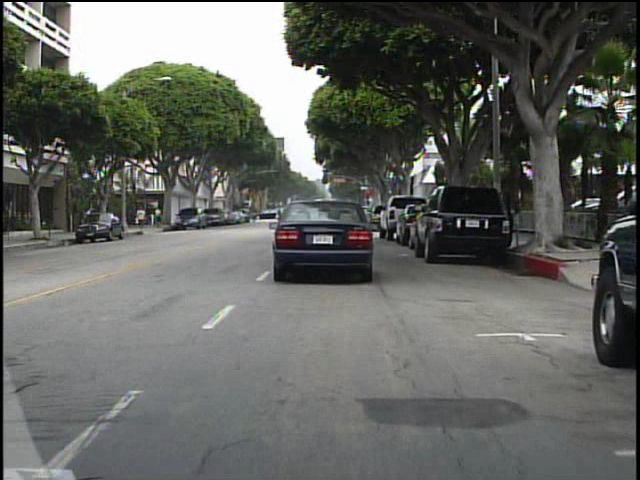person: (135, 202, 150, 232), (155, 202, 167, 229)
